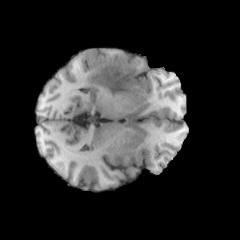glioma: (86, 54, 137, 94)
